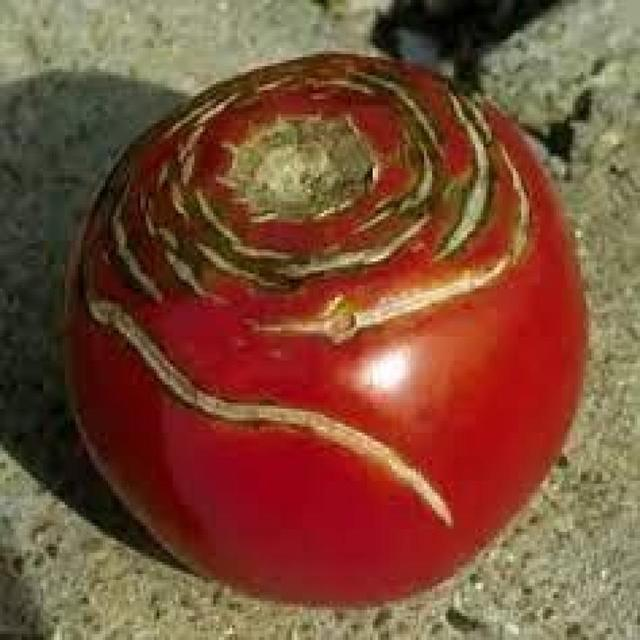Cracking Fruit: (189, 124, 288, 271)
